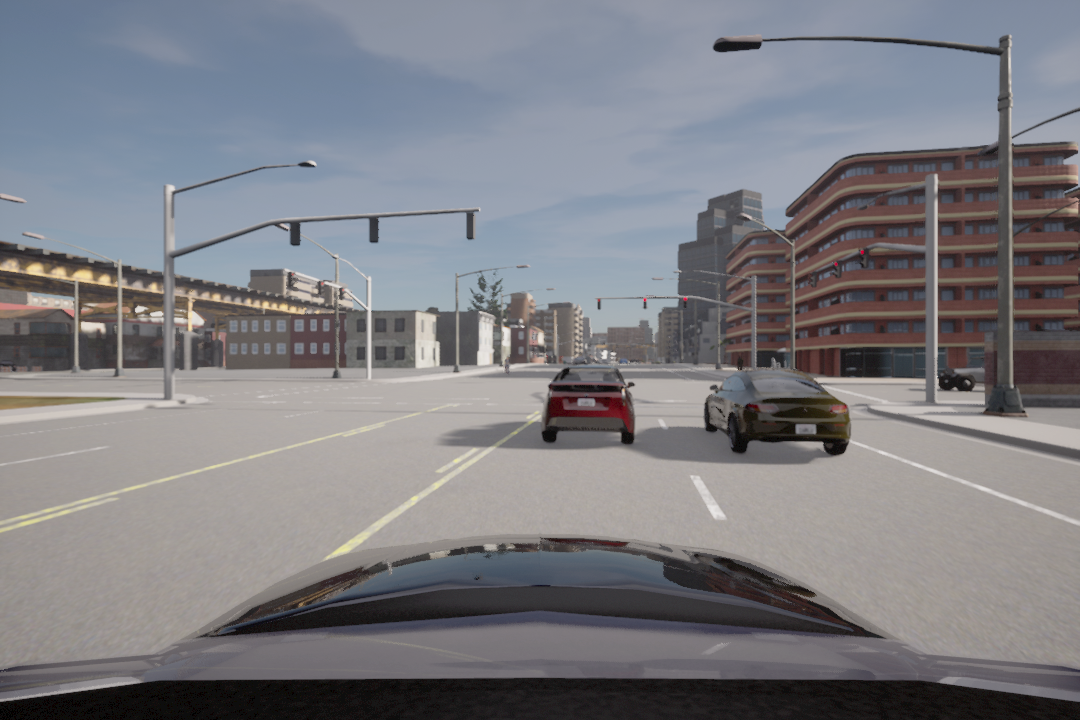TrafficLight: (829, 257, 844, 277), (857, 247, 871, 268), (640, 294, 650, 314), (337, 284, 347, 301), (318, 279, 327, 297), (287, 271, 295, 289), (809, 271, 818, 286), (680, 295, 689, 310), (597, 298, 603, 312)
